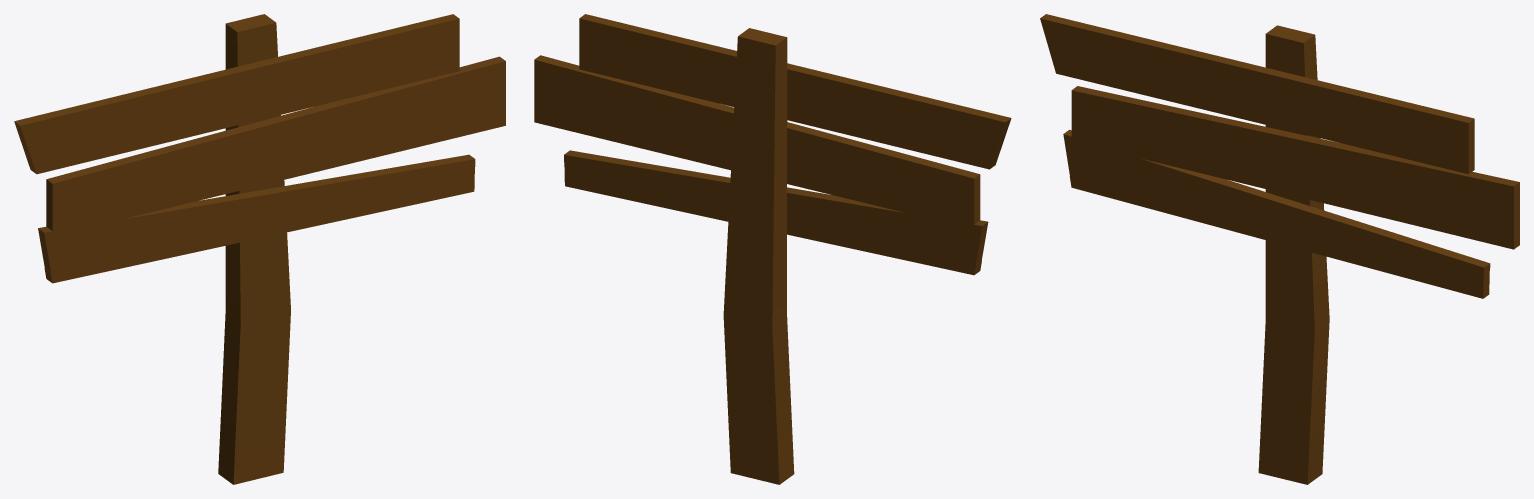
3 views of the same model, side by side, from view 1: azimuth 30°, elevation 25°; view 2: azimuth 150°, elevation 25°; view 3: azimuth 330°, elevation 25° (orthographic). The views are drawn at different scales.
Visible parts, largest first — view 1: polySurface021, polySurface022, polySurface013, polySurface015, polySurface018, polySurface023, polySurface020, polySurface017, polySurface019, polySurface014, polySurface024, polySurface016; view 2: polySurface021, polySurface014, polySurface022, polySurface015, polySurface013, polySurface018, polySurface020, polySurface023, polySurface017, polySurface019, polySurface024, polySurface016; view 3: polySurface021, polySurface022, polySurface013, polySurface015, polySurface018, polySurface023, polySurface020, polySurface017, polySurface019, polySurface014, polySurface024, polySurface016.
Boxes of the visible parts, bbox=[...] form: polySurface021: bbox=[46, 102, 505, 235]; polySurface022: bbox=[38, 154, 475, 272]; polySurface013: bbox=[14, 14, 459, 147]; polySurface015: bbox=[218, 310, 290, 484]; polySurface018: bbox=[22, 69, 315, 174]; polySurface023: bbox=[44, 167, 474, 283]; polySurface020: bbox=[46, 113, 371, 207]; polySurface017: bbox=[268, 30, 459, 117]; polySurface019: bbox=[288, 56, 505, 119]; polySurface014: bbox=[225, 21, 288, 293]; polySurface024: bbox=[225, 256, 290, 322]; polySurface016: bbox=[237, 14, 277, 59]; polySurface021: bbox=[534, 96, 980, 229]; polySurface014: bbox=[726, 34, 787, 296]; polySurface022: bbox=[564, 150, 988, 264]; polySurface015: bbox=[723, 315, 794, 484]; polySurface013: bbox=[579, 14, 1011, 143]; polySurface018: bbox=[692, 60, 1003, 169]; polySurface020: bbox=[624, 104, 980, 201]; polySurface023: bbox=[564, 162, 981, 275]; polySurface017: bbox=[579, 29, 732, 106]; polySurface019: bbox=[534, 55, 734, 113]; polySurface024: bbox=[723, 261, 786, 326]; polySurface016: bbox=[733, 28, 773, 116]; polySurface021: bbox=[1071, 114, 1519, 249]; polySurface022: bbox=[1063, 129, 1490, 274]; polySurface013: bbox=[1040, 14, 1474, 133]; polySurface015: bbox=[1258, 318, 1329, 484]; polySurface018: bbox=[1047, 44, 1328, 128]; polySurface023: bbox=[1069, 176, 1489, 298]; polySurface020: bbox=[1071, 86, 1382, 173]; polySurface017: bbox=[1282, 104, 1474, 174]; polySurface019: bbox=[1302, 138, 1519, 226]; polySurface014: bbox=[1265, 25, 1326, 289]; polySurface024: bbox=[1265, 264, 1329, 329]; polySurface016: bbox=[1279, 28, 1317, 79].
Size of the model in its own units: 130 by 115 by 9.57.
